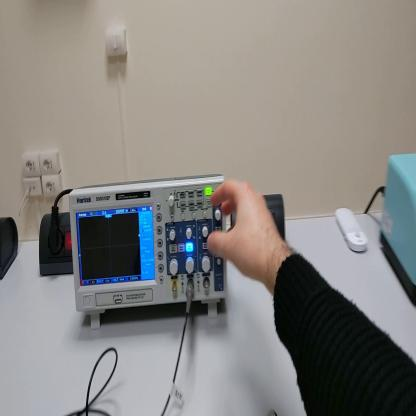hand: (206, 177, 278, 284)
oscilloscope: (69, 172, 231, 332)
socket: (36, 213, 75, 280), (2, 215, 21, 283)
welder station: (382, 155, 416, 310)
